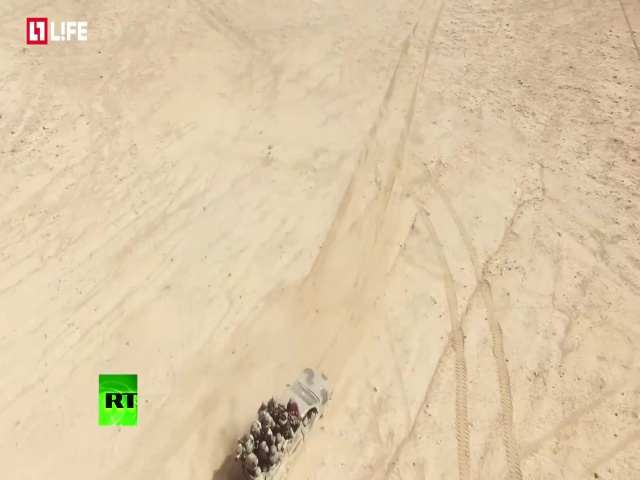vehicle: (235, 367, 334, 477)
